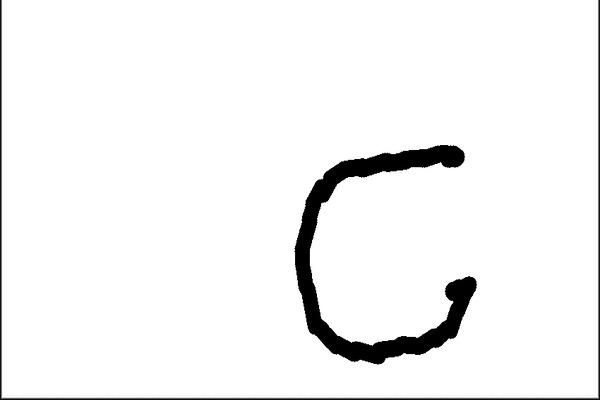C: (288, 140, 482, 366)
